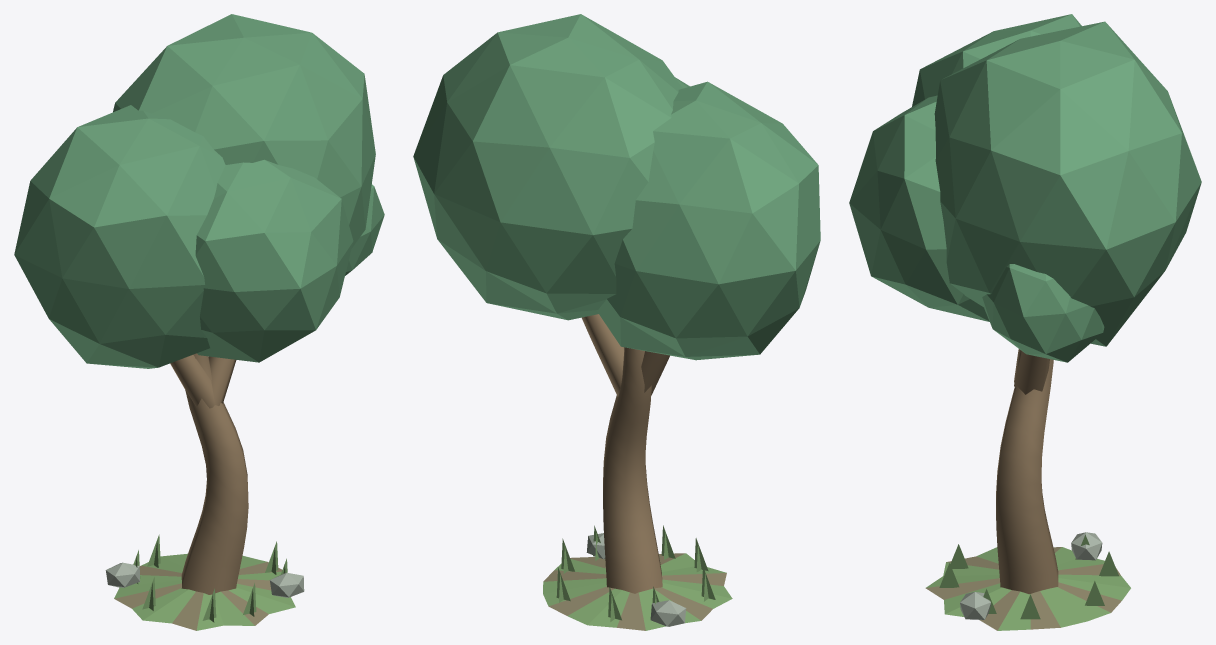
Rendered from broadleaf_emerald.glb.
3 views of the same model, side by side, from view 1: azimuth 30°, elevation 25°; view 2: azimuth 150°, elevation 25°; view 3: azimuth 270°, elevation 25° (orthographic). The views are drawn at different scales.
Visible parts, largest first — view 1: VR faceted leaf cluster; view 2: VR faceted leaf cluster; view 3: VR faceted leaf cluster.
Part boxes in pixels (<box>): VR faceted leaf cluster: <box>14,14,384,630</box>; VR faceted leaf cluster: <box>413,14,820,630</box>; VR faceted leaf cluster: <box>849,14,1201,630</box>.
Size of the model in its own units: 5.16 by 7.51 by 4.12.
